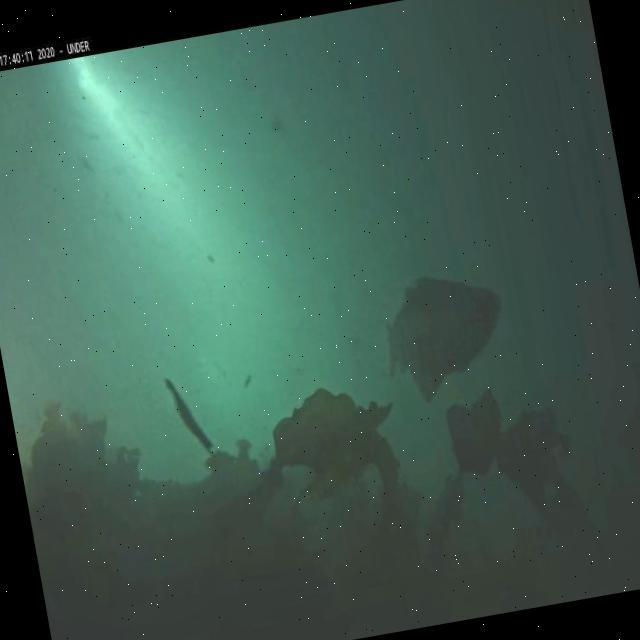fish: (374, 266, 516, 406)
